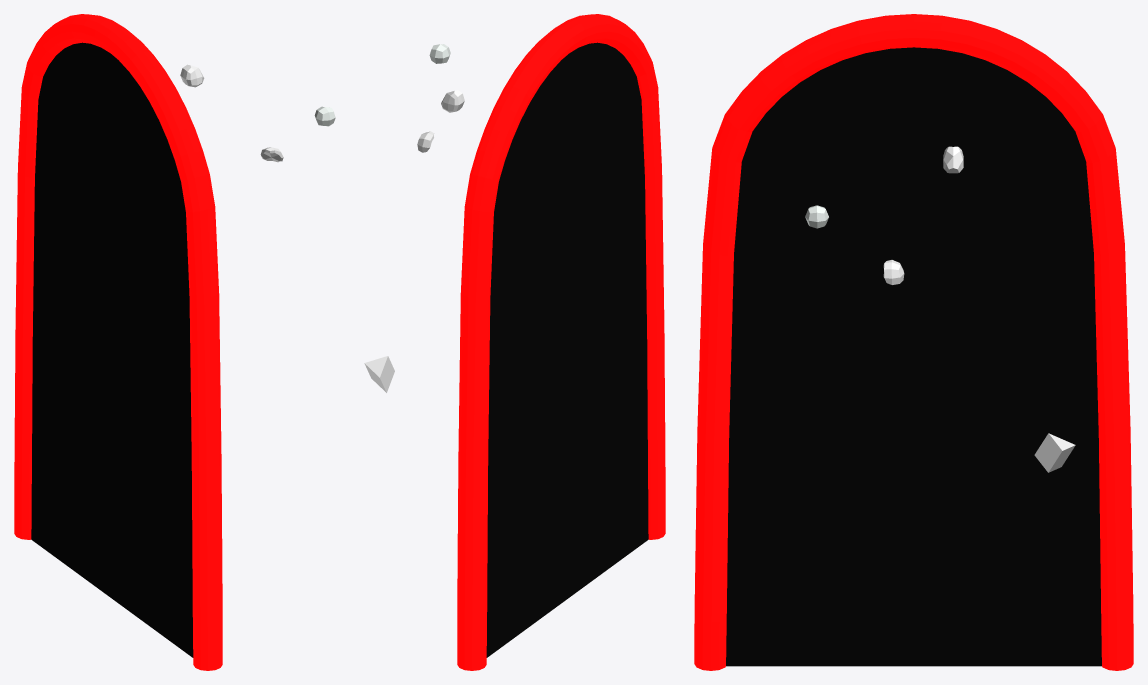
The model's file is blackdoorInside.glb.
The picture shows the model from 3 angles, left to right: view 1: azimuth 30°, elevation 25°; view 2: azimuth 150°, elevation 25°; view 3: azimuth 270°, elevation 25°; orthographic projection. The views are drawn at different scales.
Visible parts, largest first — view 1: Cube_Cube.001, Torus.001; view 2: Cube_Cube.001, Torus.001, rock.012; view 3: Cube_Cube.001, Torus.001, rock.012.
Part boxes in pixels (box(x1,y1,x2,y2)): Cube_Cube.001: box(31, 42, 193, 657); Torus.001: box(14, 14, 222, 670); Cube_Cube.001: box(486, 42, 648, 657); Torus.001: box(457, 14, 665, 670); rock.012: box(364, 356, 394, 392); Cube_Cube.001: box(726, 47, 1101, 666); Torus.001: box(694, 14, 1133, 670); rock.012: box(1034, 433, 1075, 472).
Size of the model in its own units: 2.92 by 8.58 by 5.27.
